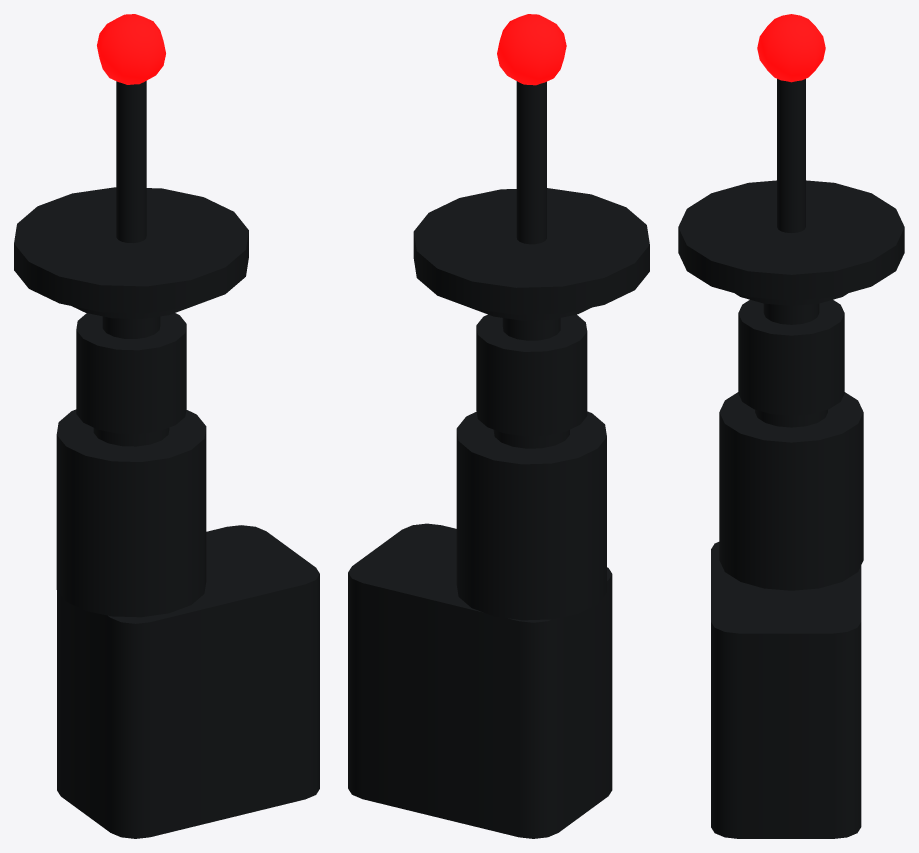
Rendered from TopRed_l.fbx.
3 renders of one model, left to right at view 1: azimuth 30°, elevation 25°; view 2: azimuth 150°, elevation 25°; view 3: azimuth 270°, elevation 25°, orthographic. The views are drawn at different scales.
Visible parts, largest first — view 1: Cube.029; view 2: Cube.029; view 3: Cube.029.
Boxes of the visible parts, x1,y1,x2,y2 form: Cube.029: [14, 14, 319, 838]; Cube.029: [348, 14, 649, 838]; Cube.029: [678, 14, 904, 838].
Size of the model in its own units: 73.08 by 57.79 by 211.
